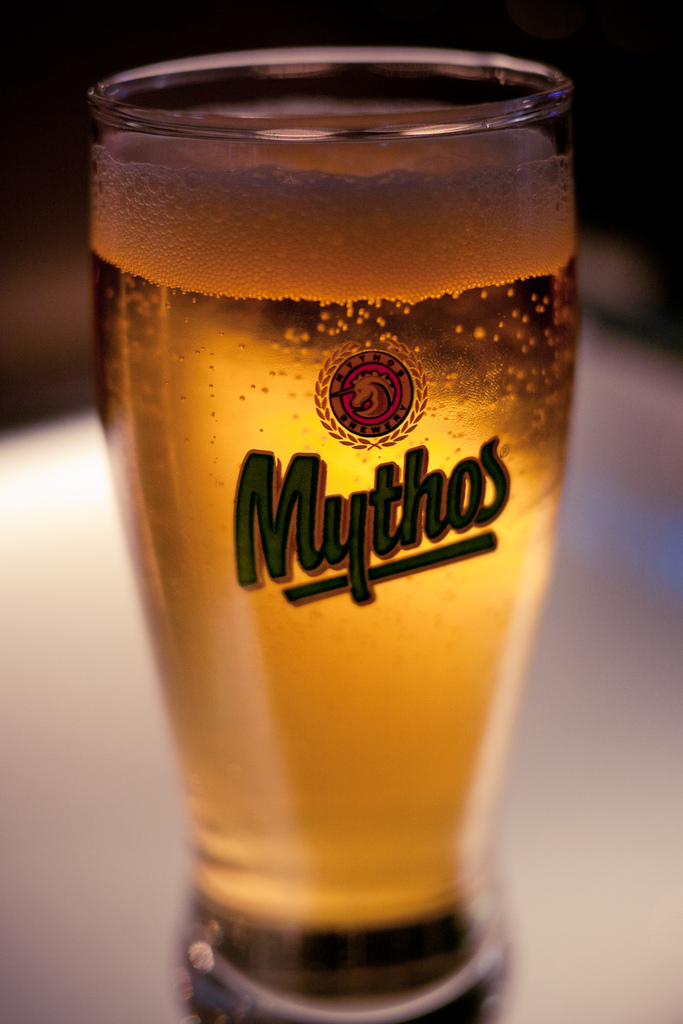Beer: (85, 47, 580, 1024)
